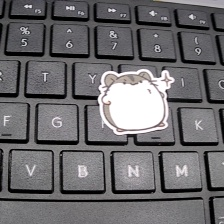mouse: (96, 66, 173, 137)
